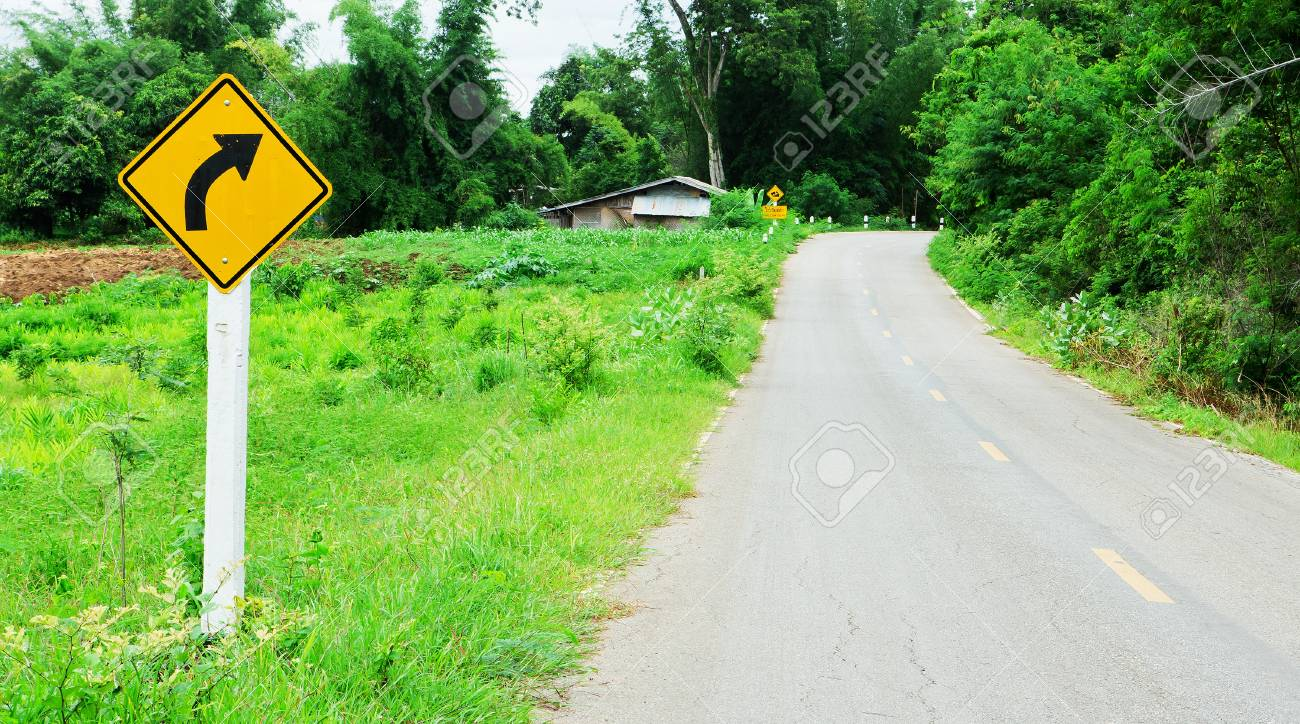right: (113, 71, 335, 296)
